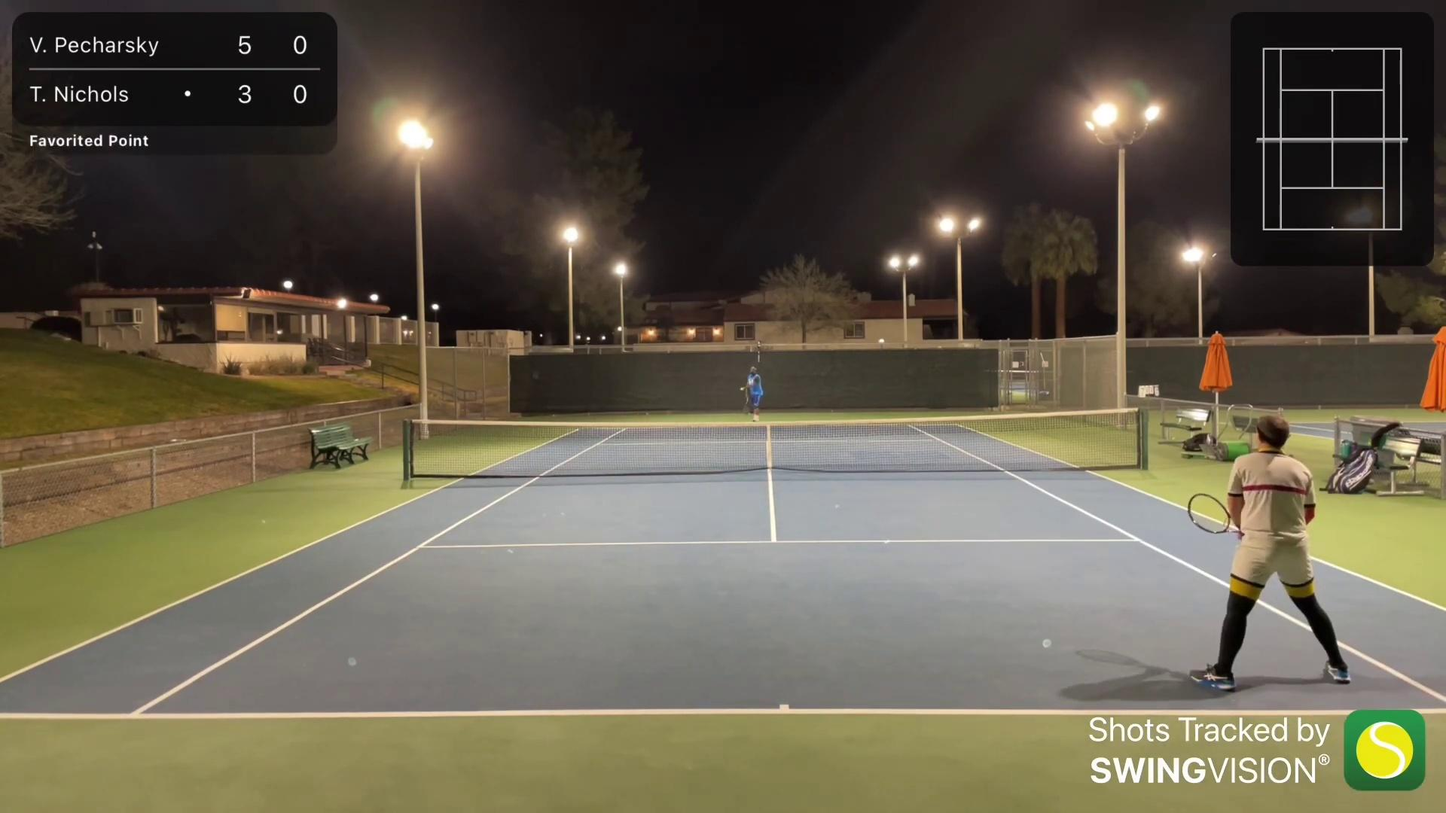ball: (739, 385, 745, 393)
